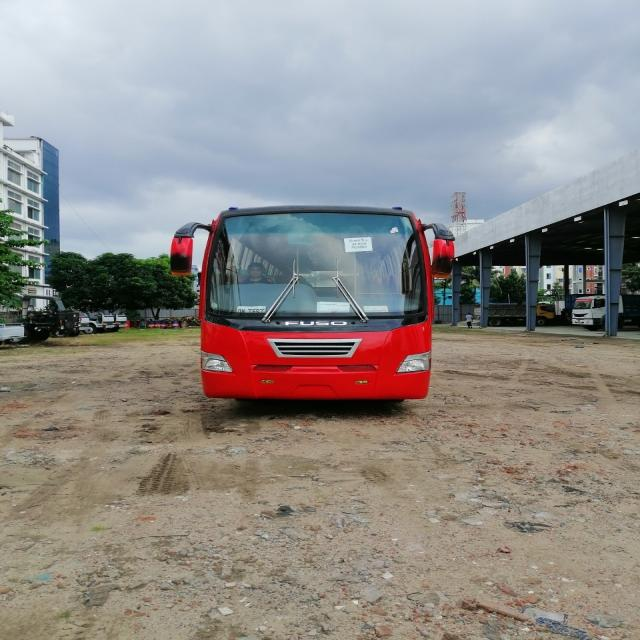bus: (145, 182, 498, 426)
